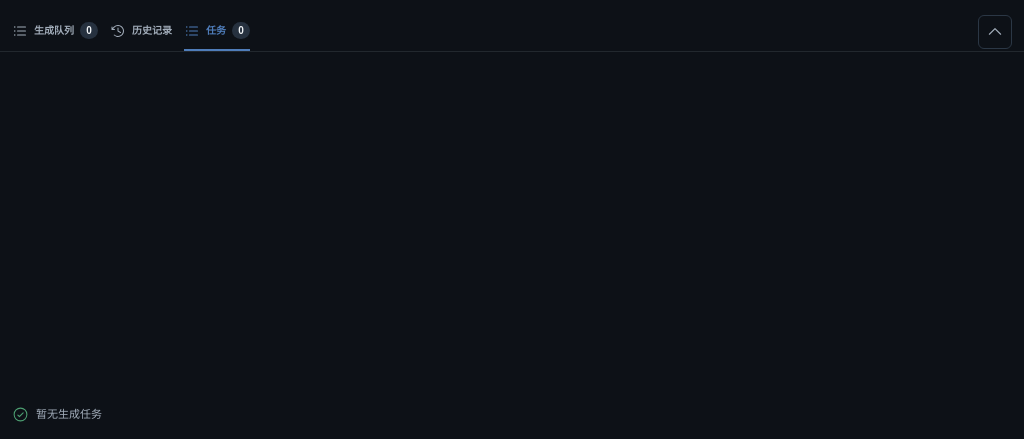
GenerationQueue Jobs tab › expands a job into its task table and shows failed task error
The width and height of the screenshot is (1024, 439).
Click the button "任务 0".
click(217, 32)  # box x1=184 y1=12 x2=250 y2=51
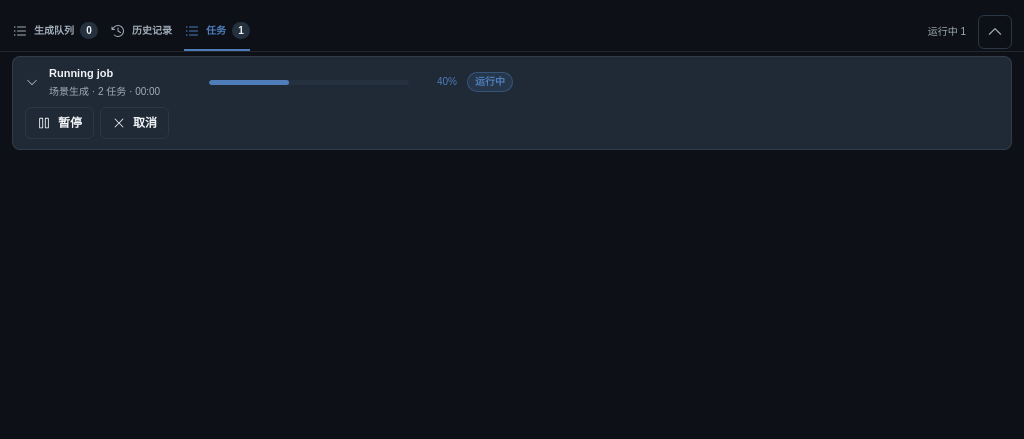
Click the text "Running job".
click(81, 73)  # box x1=49 y1=67 x2=113 y2=79
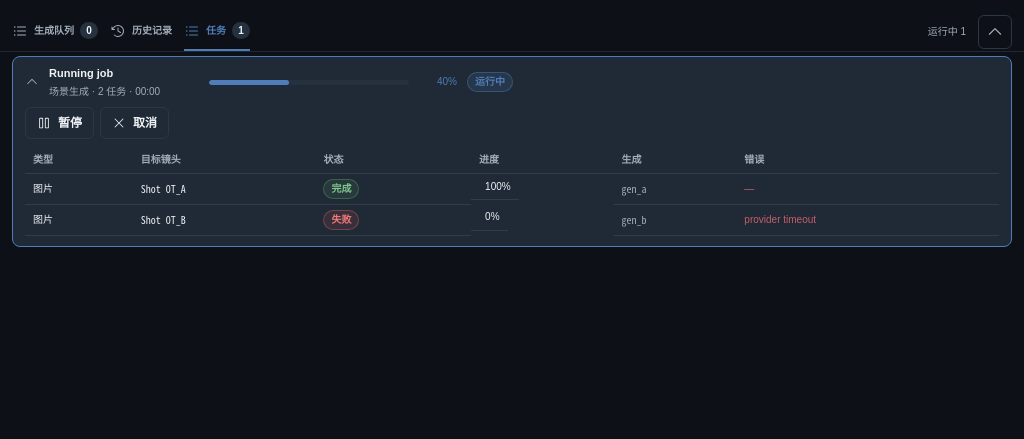
expect the text "provider timeout" is shown: met, box x1=736 y1=204 x2=999 y2=235
expect the text "完成" is shown: met, box x1=323 y1=179 x2=359 y2=199
expect the text "失败" is shown: met, box x1=323 y1=210 x2=359 y2=230
